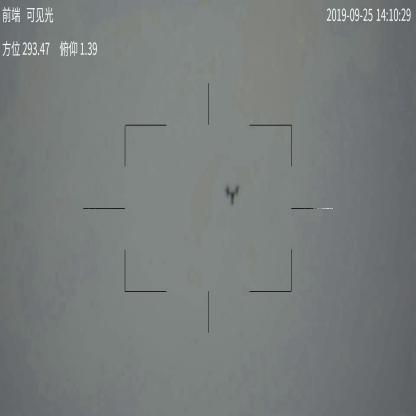uav: (225, 181, 240, 205)
